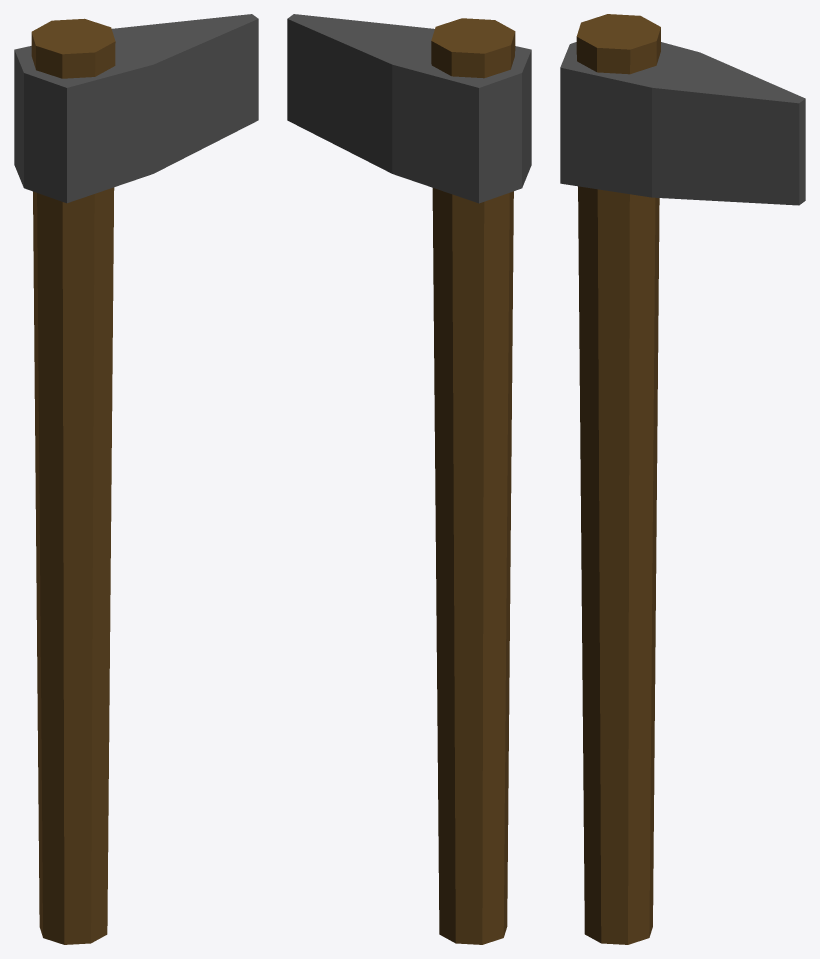
Rendered from axe.glb.
The picture shows the model from 3 angles, left to right: view 1: azimuth 30°, elevation 25°; view 2: azimuth 150°, elevation 25°; view 3: azimuth 330°, elevation 25°; orthographic projection.
Visible parts, largest first — view 1: Cylinder; view 2: Cylinder; view 3: Cylinder.
Boxes of the visible parts, x1,y1,x2,y2 form: Cylinder: (14, 14, 258, 944); Cylinder: (287, 14, 531, 944); Cylinder: (560, 14, 805, 944).
Bounding box in the file's own units: 0.7613 × 2.81 × 0.299.
